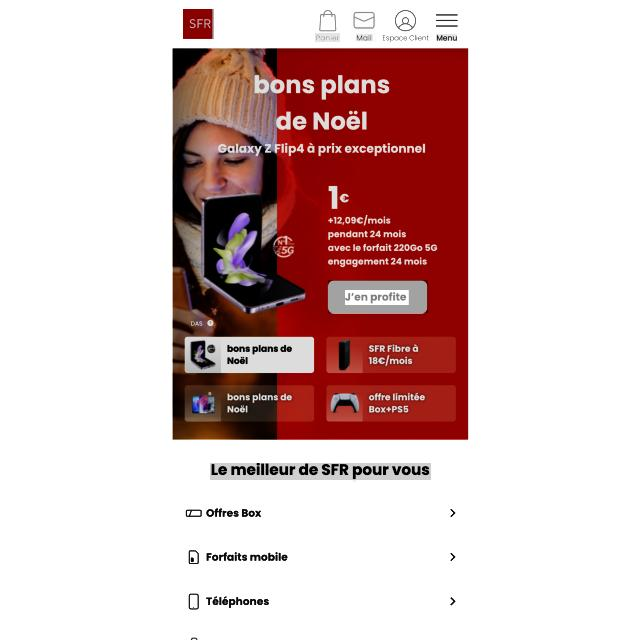CheckBox: (328, 280, 428, 313), (382, 8, 429, 43), (313, 6, 342, 44), (351, 10, 376, 42), (434, 11, 458, 42)
card: (173, 48, 469, 439)
carousel: (394, 9, 417, 32), (317, 9, 338, 32), (353, 10, 375, 28), (435, 13, 458, 29)
data feed: (346, 290, 410, 305), (382, 34, 429, 43), (315, 33, 340, 42), (436, 34, 457, 41), (356, 34, 373, 41)
date picker: (183, 9, 216, 39)
decoration: (184, 501, 458, 626), (313, 6, 461, 44)
image: (210, 464, 431, 482)
